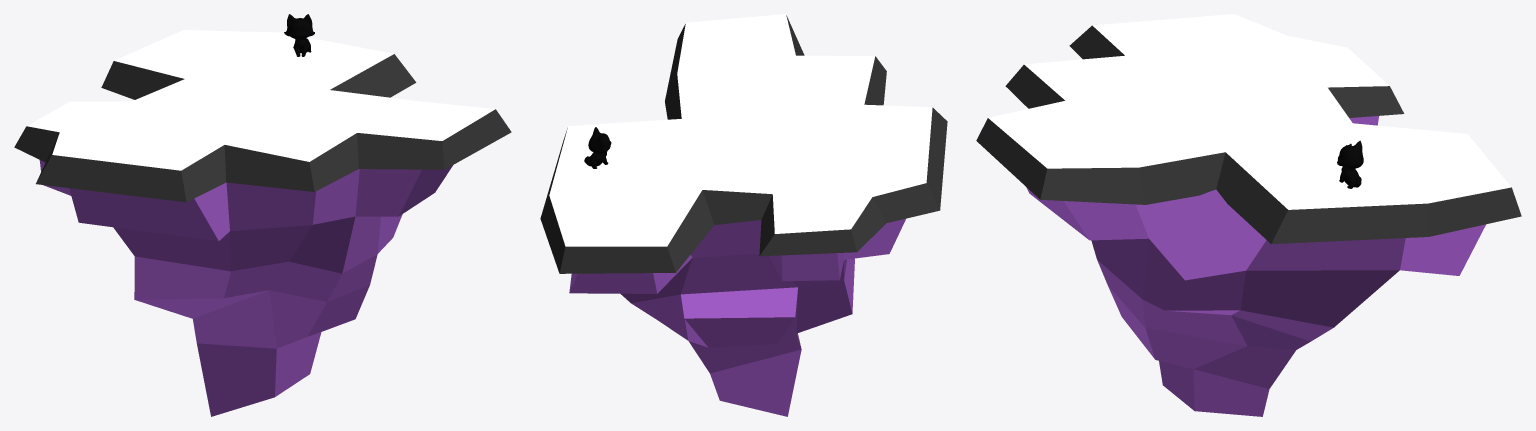
The model's file is Islandone.glb.
The picture shows the model from 3 angles, left to right: view 1: azimuth 30°, elevation 25°; view 2: azimuth 150°, elevation 25°; view 3: azimuth 270°, elevation 25°; orthographic projection. The views are drawn at different scales.
Visible parts, largest first — view 1: Island_big, Body; view 2: Island_big, Body; view 3: Island_big, Body.
Boxes of the visible parts, x1=… form: Island_big: x1=14, y1=30, x2=511, y2=416; Body: x1=284, y1=14, x2=314, y2=56; Island_big: x1=540, y1=14, x2=947, y2=416; Body: x1=584, y1=127, x2=611, y2=168; Island_big: x1=976, y1=14, x2=1521, y2=416; Body: x1=1337, y1=140, x2=1363, y2=188.
Bounding box in the file's own units: 5.61 × 4.46 × 6.38.
